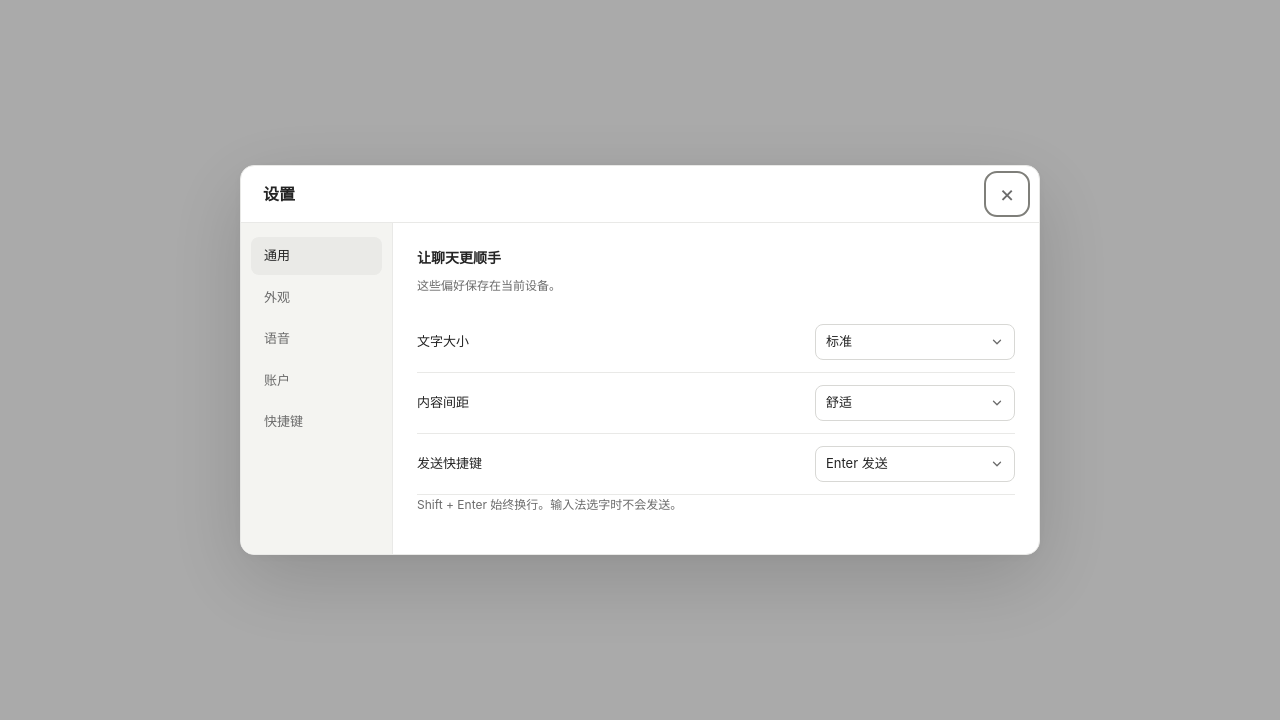
Test: account actions expose only sanitized device summaries and never revoke the current device
Click the tab "账户": point(316, 381) x1=251 y1=362 x2=382 y2=399
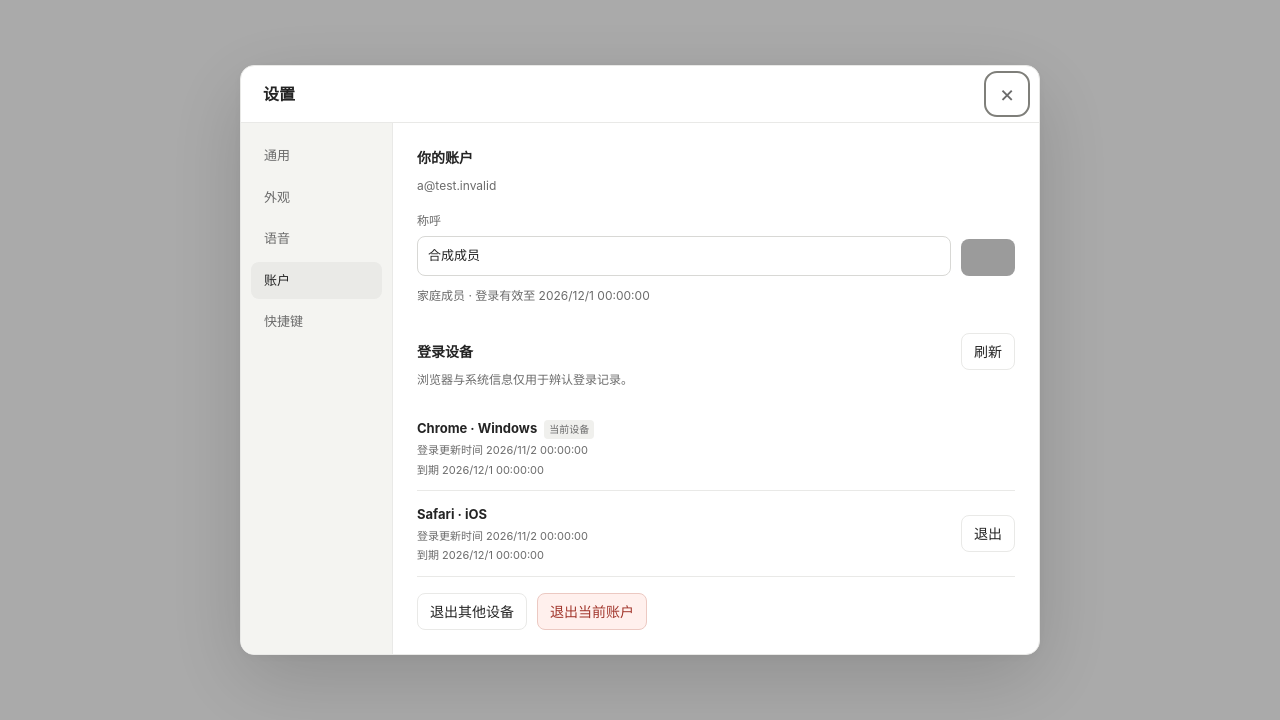
Check: the text "Safari · iOS" is shown, box x1=417 y1=506 x2=487 y2=522
Click the button with aria-label "退出 Safari · iOS": point(988, 533) x1=961 y1=515 x2=1015 y2=552
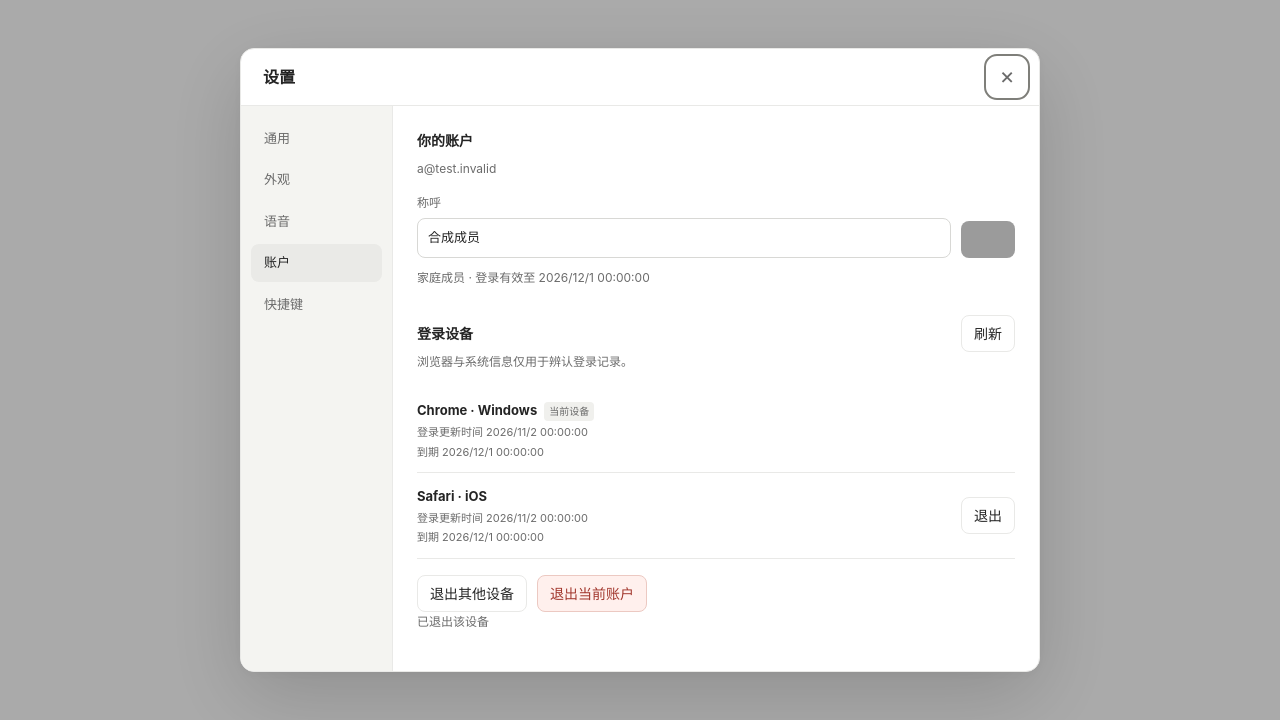
Check: the button "保存" is disabled, box x1=961 y1=221 x2=1015 y2=258
Replace the text in the field labelled "称呼" with " 更新称呼 ": point(684, 238) x1=417 y1=218 x2=951 y2=258
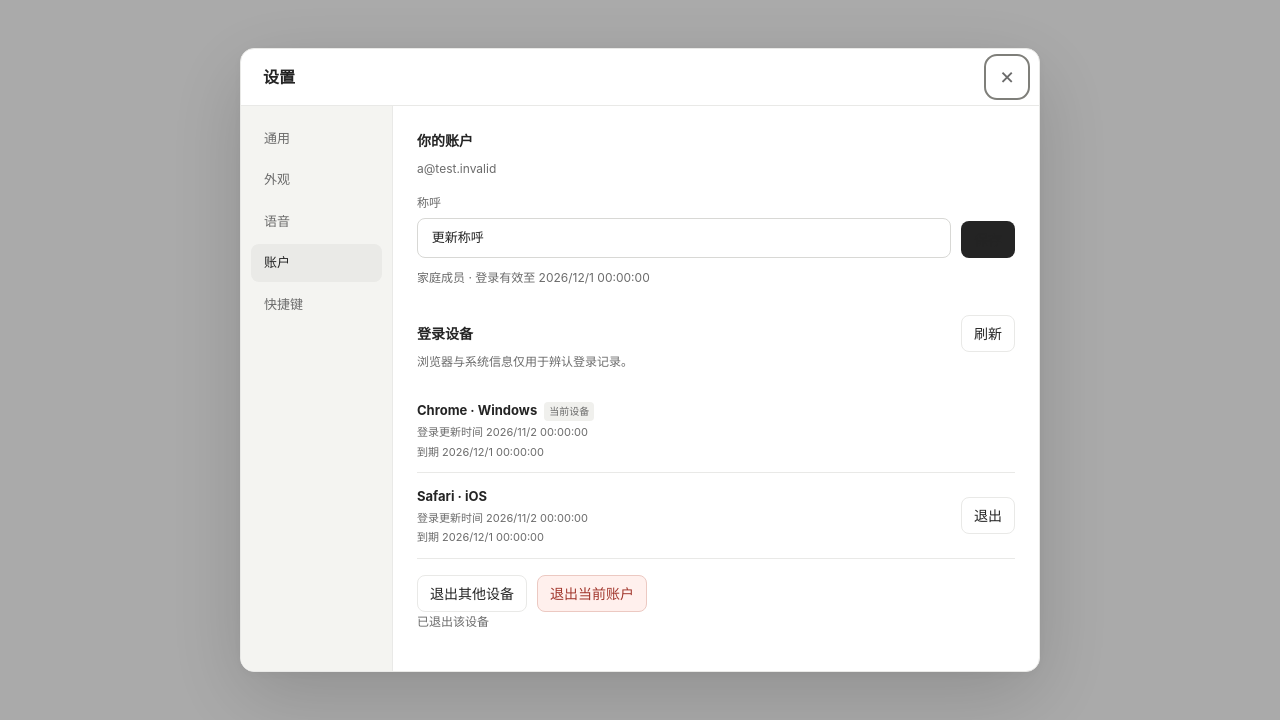
Click the button "保存": point(988, 240) x1=961 y1=221 x2=1015 y2=258
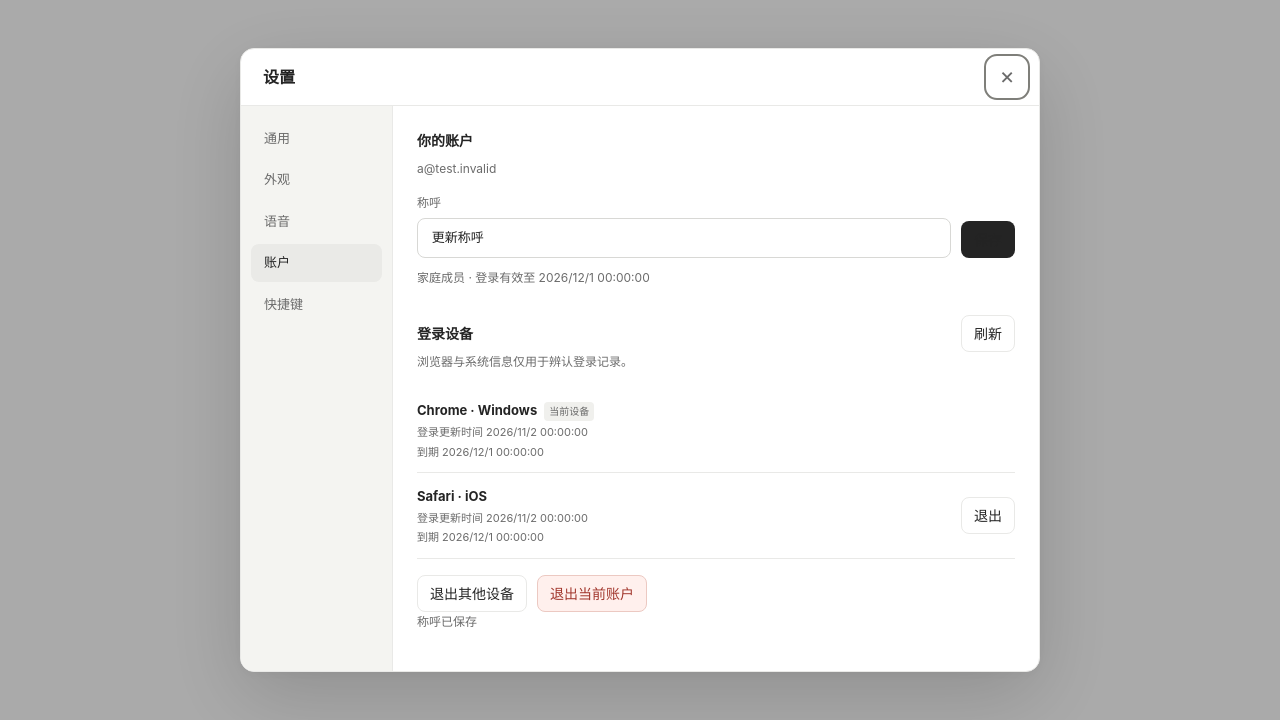
Check: the text "称呼已保存" is shown, box x1=417 y1=614 x2=477 y2=629
